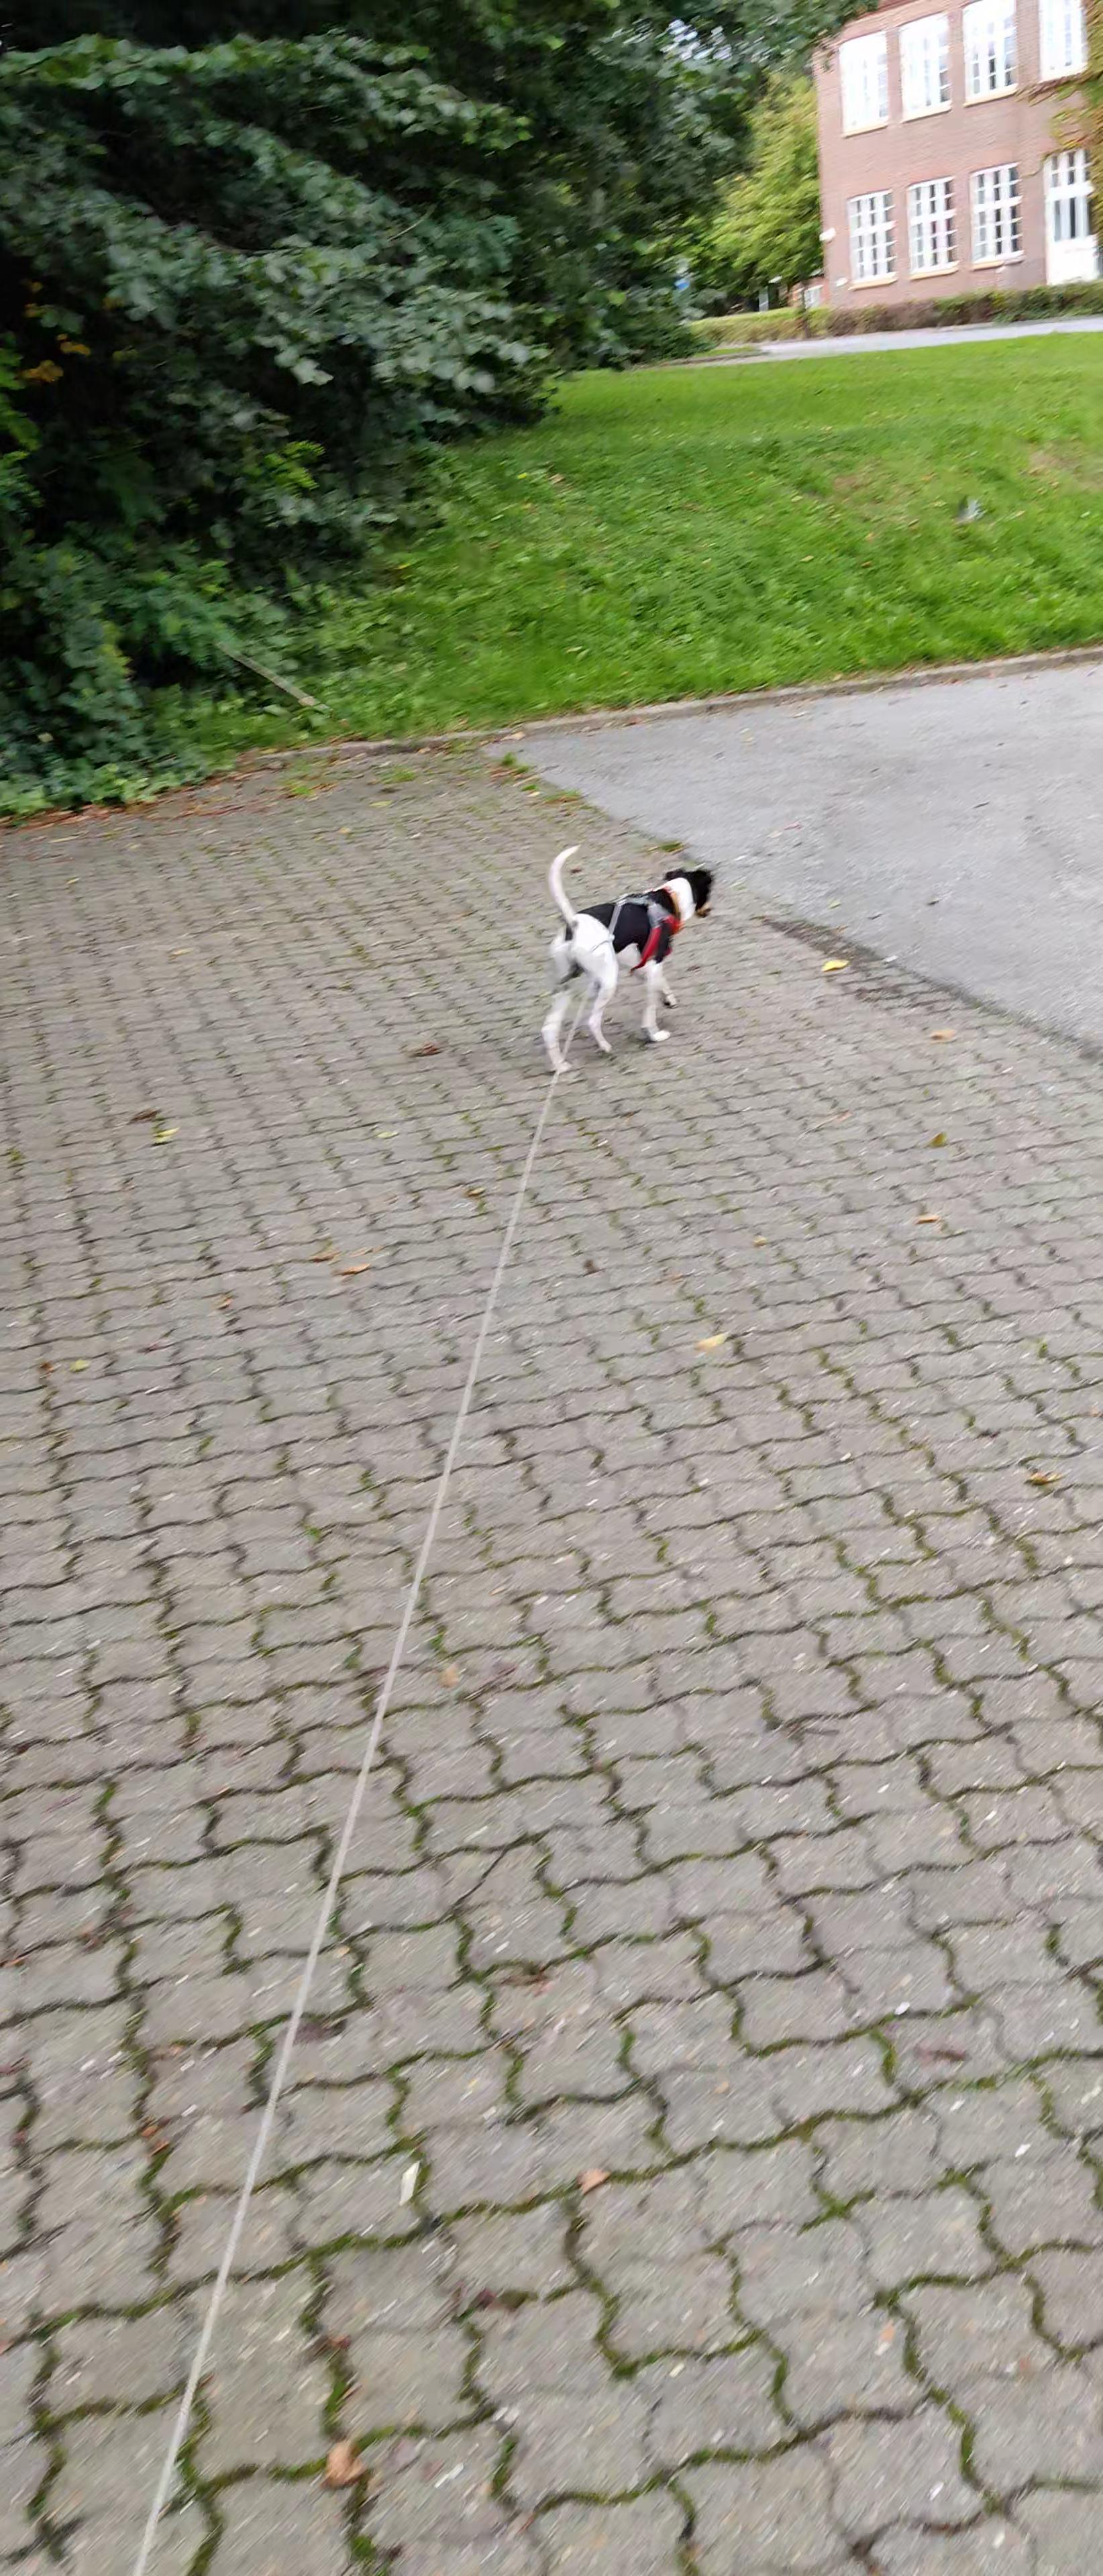Dog: (539, 843, 717, 1079)
